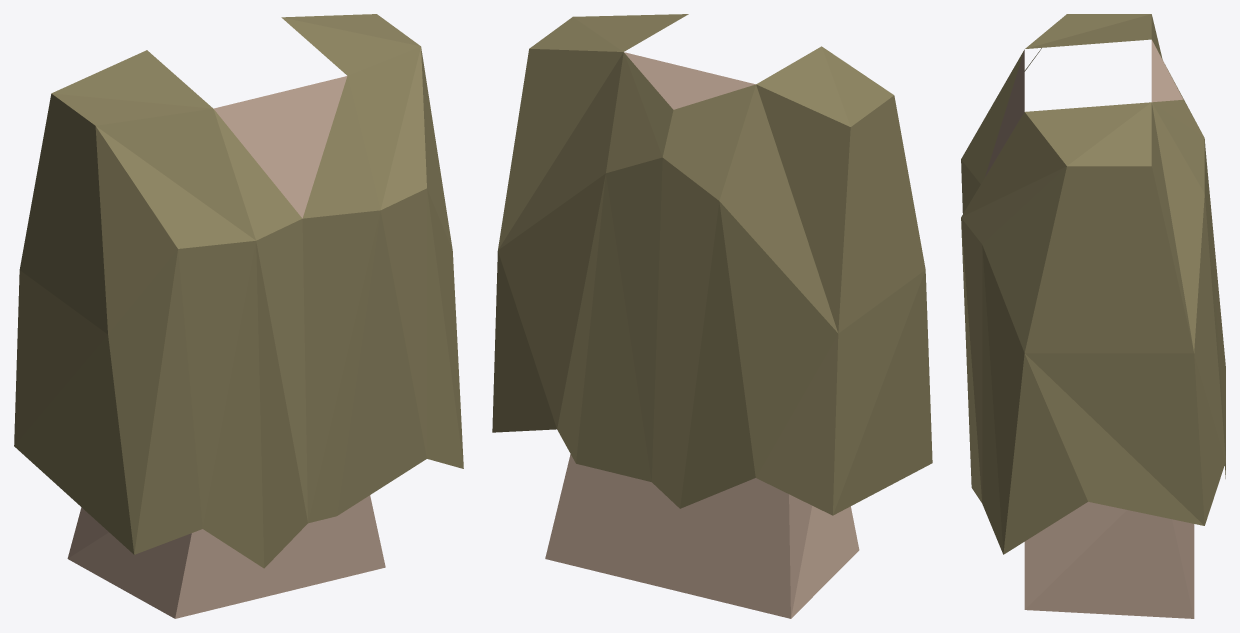
Rendered from man-torso.glb.
The picture shows the model from 3 angles, left to right: view 1: azimuth 30°, elevation 25°; view 2: azimuth 150°, elevation 25°; view 3: azimuth 270°, elevation 25°; orthographic projection. The views are drawn at different scales.
Parts seen in each view (by area): view 1: runescapemodel; view 2: runescapemodel; view 3: runescapemodel.
Part boxes in pixels (x1=…): runescapemodel: x1=14, y1=14, x2=463, y2=618; runescapemodel: x1=492, y1=14, x2=932, y2=618; runescapemodel: x1=961, y1=14, x2=1225, y2=618.
Bounding box in the file's own units: 37 × 51 × 25.
